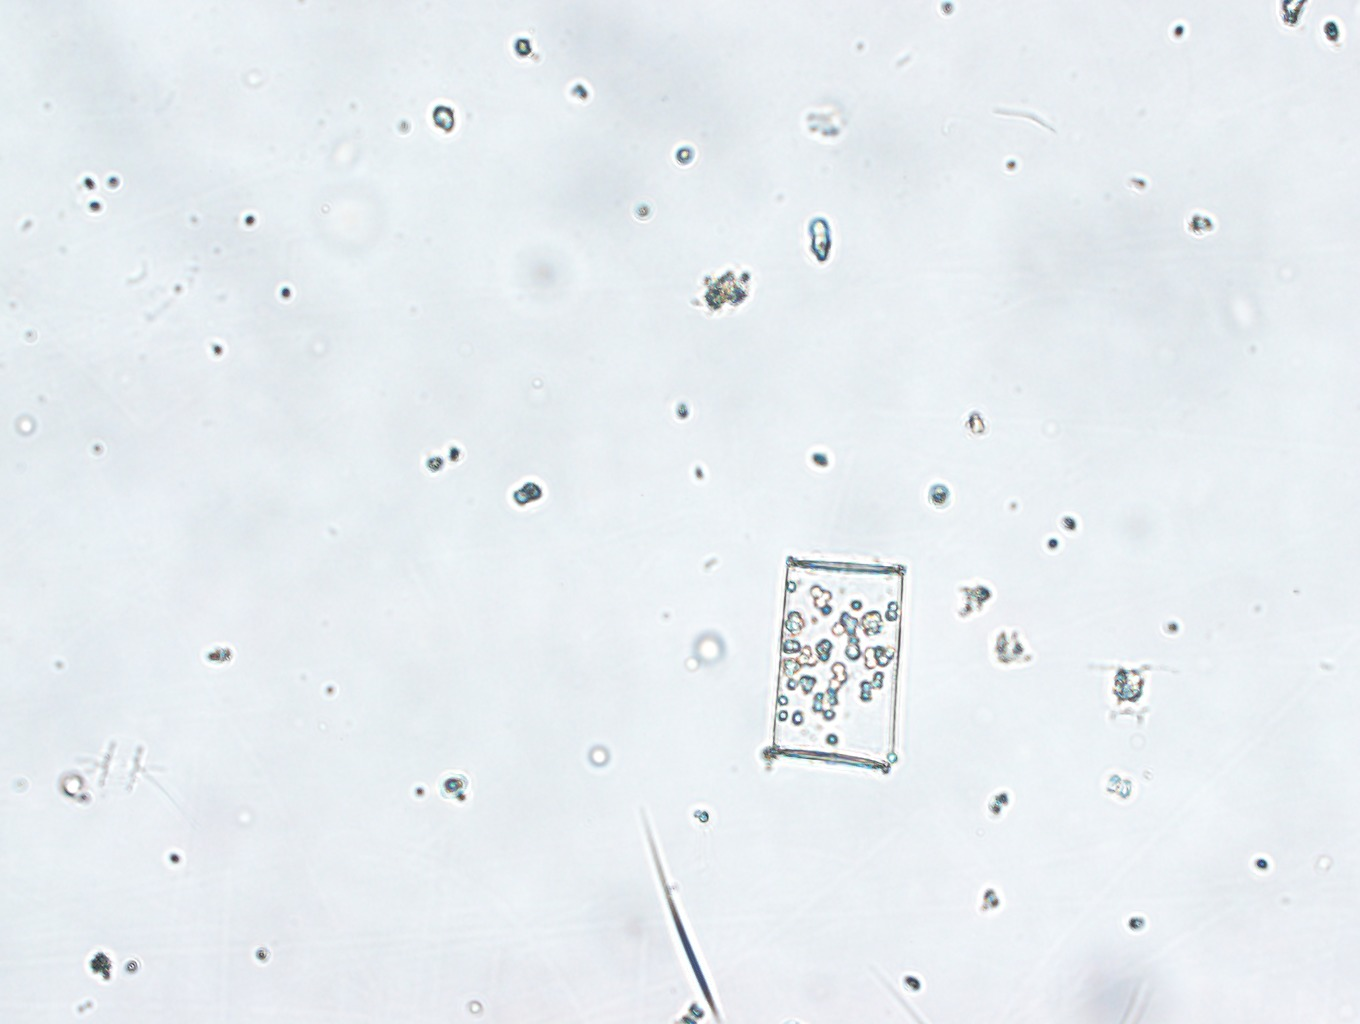guinardia flaccida: (769, 553, 905, 773)
